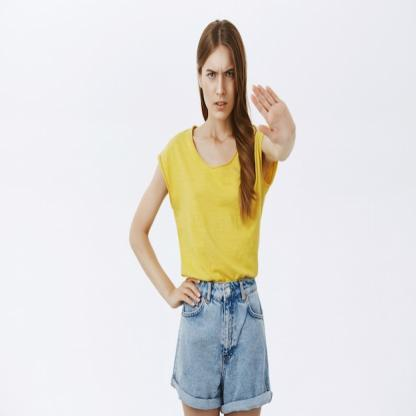stop: (248, 81, 297, 148)
